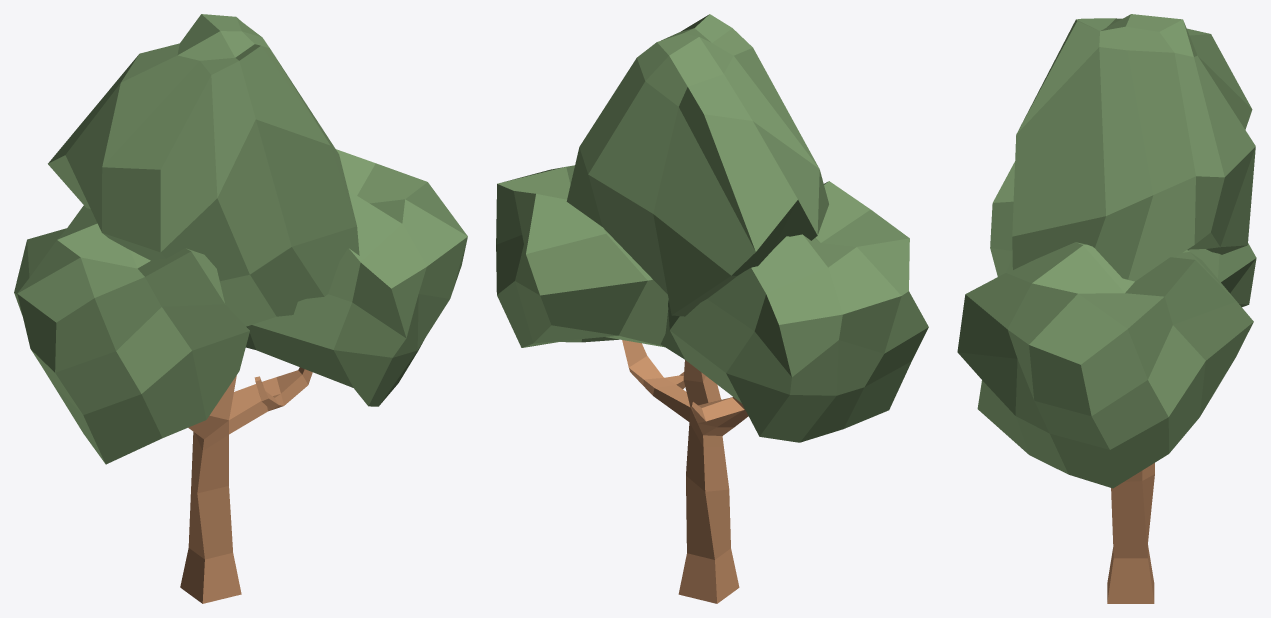
File: ArbolT1.fbx
3 renders of one model, left to right at view 1: azimuth 30°, elevation 25°; view 2: azimuth 150°, elevation 25°; view 3: azimuth 270°, elevation 25°, orthographic. The views are drawn at different scales.
Visible parts, largest first — view 1: Cube.002, Cube, Cube.001, Arbol01; view 2: Cube.002, Cube, Cube.001, Arbol01; view 3: Cube.002, Cube.001, Arbol01, Cube.
Boxes of the visible parts, x1=… form: Cube.002: x1=48, y1=14, x2=359, y2=326; Cube: x1=14, y1=205, x2=249, y2=464; Cube.001: x1=245, y1=149, x2=467, y2=406; Arbol01: x1=180, y1=367, x2=312, y2=603; Cube.002: x1=566, y1=14, x2=828, y2=316; Cube: x1=661, y1=181, x2=928, y2=442; Cube.001: x1=496, y1=165, x2=668, y2=347; Arbol01: x1=622, y1=340, x2=748, y2=603; Cube.002: x1=1012, y1=14, x2=1255, y2=281; Cube.001: x1=957, y1=242, x2=1253, y2=488; Arbol01: x1=1107, y1=463, x2=1154, y2=603; Cube: x1=990, y1=162, x2=1256, y2=306.
Size of the model in its own units: 1483 by 1855 by 859.
